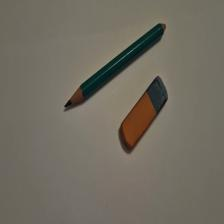eraser: (121, 76, 169, 150)
pencil: (65, 24, 167, 109)
